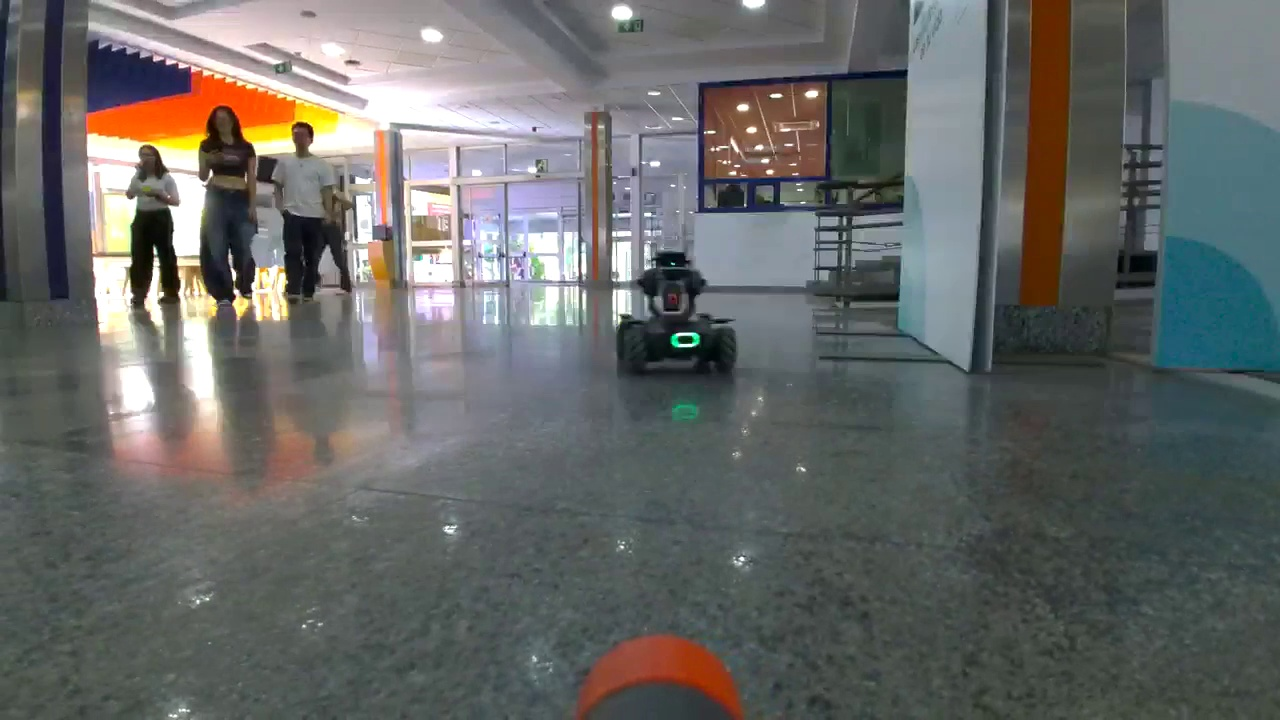robot: (616, 250, 736, 374)
